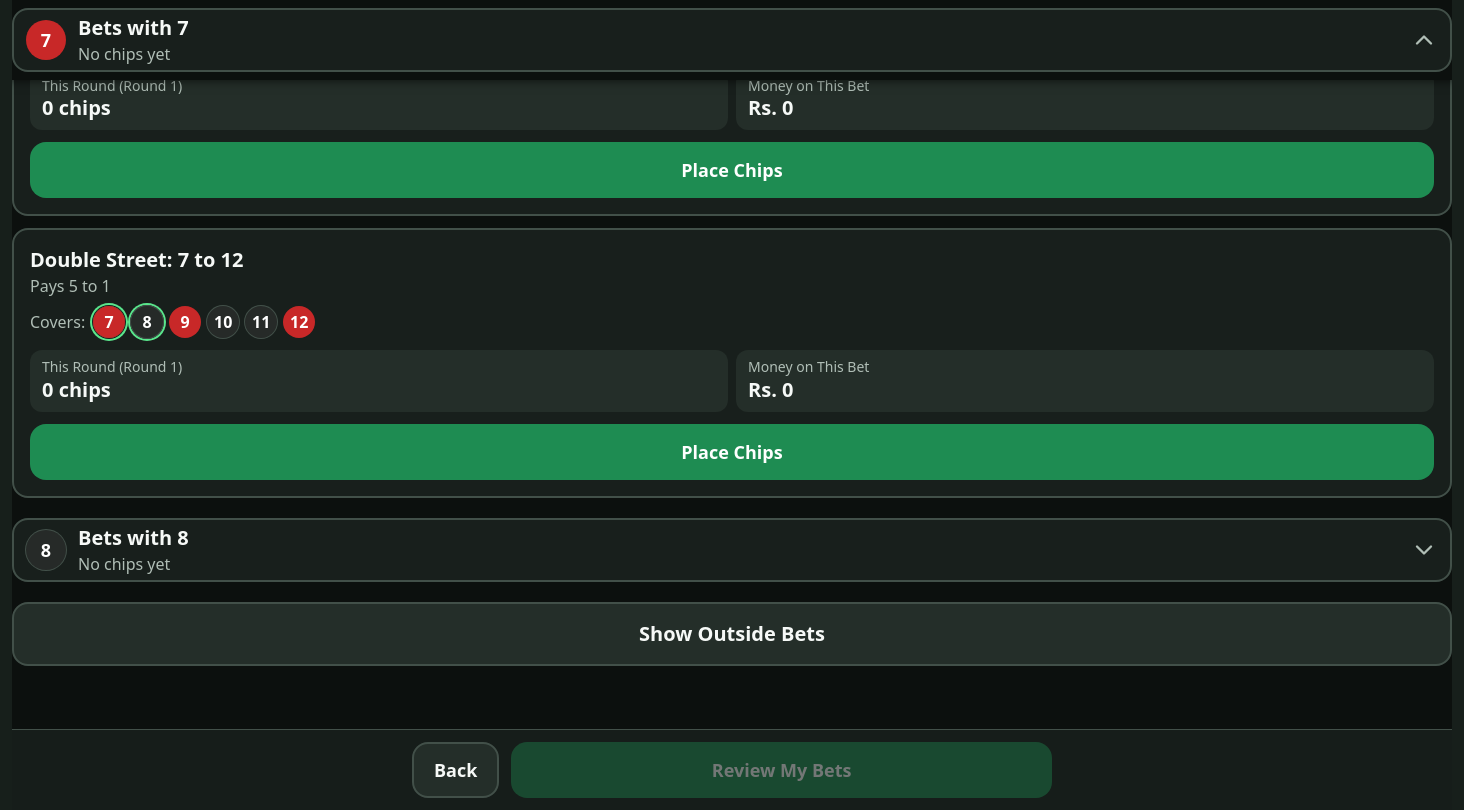
Test: each main number folds open and closed › stays as the player left it while placing chips
(page scrolled)
Click the button "8 Bets with 8 No chips yet" at point(46, 550), box [12,518,1452,582]
(page scrolled)
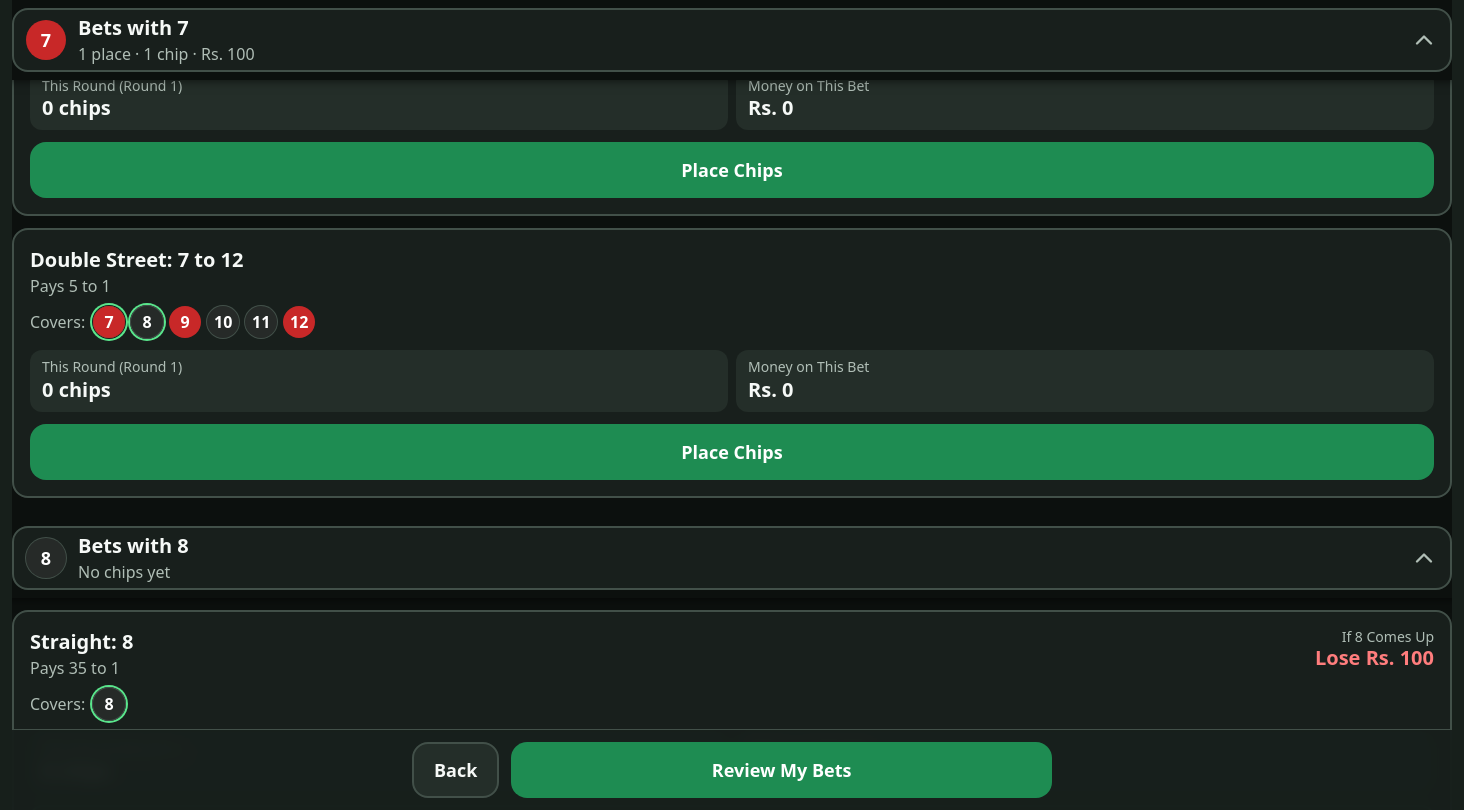
Result: the button "7 Bets with 7 1 place · 1 chip · Rs. 100" is shown at [12,8,1452,72]
Result: the button "8 Bets with 8 No chips yet" is expanded at [12,526,1452,590]
